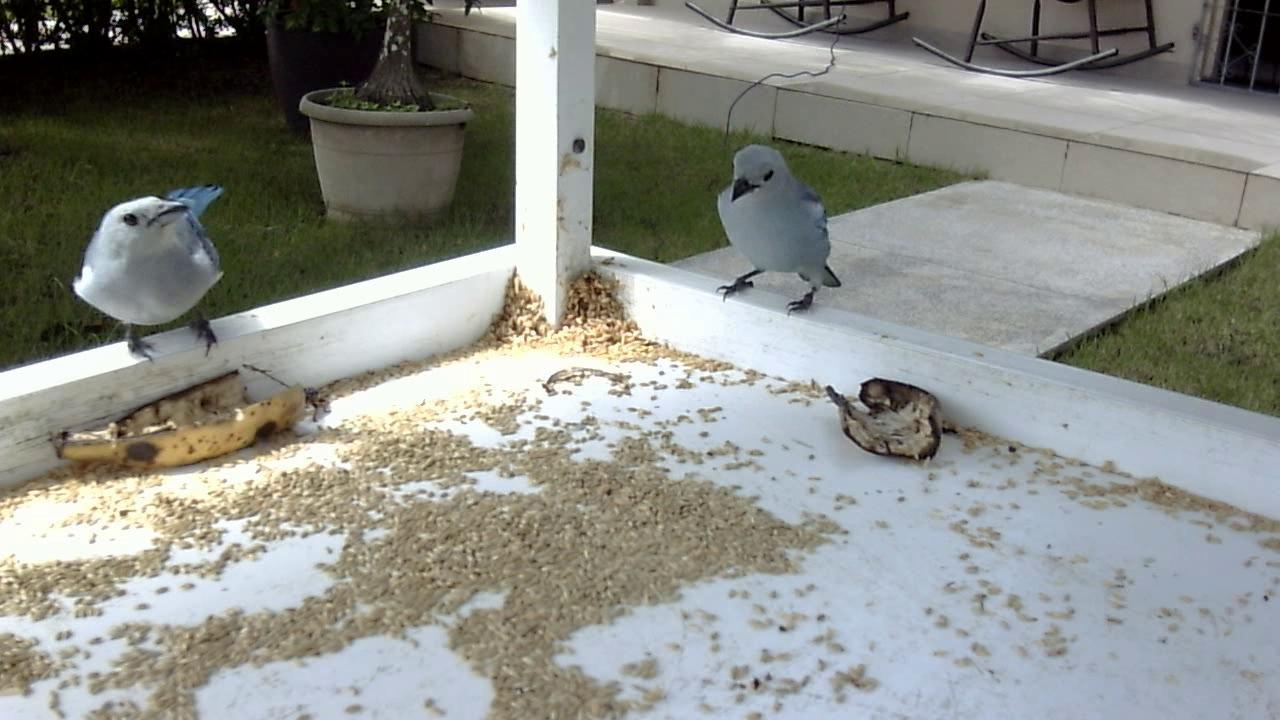sanhaco_da_amazonia: (58, 178, 233, 367), (710, 144, 841, 321)
